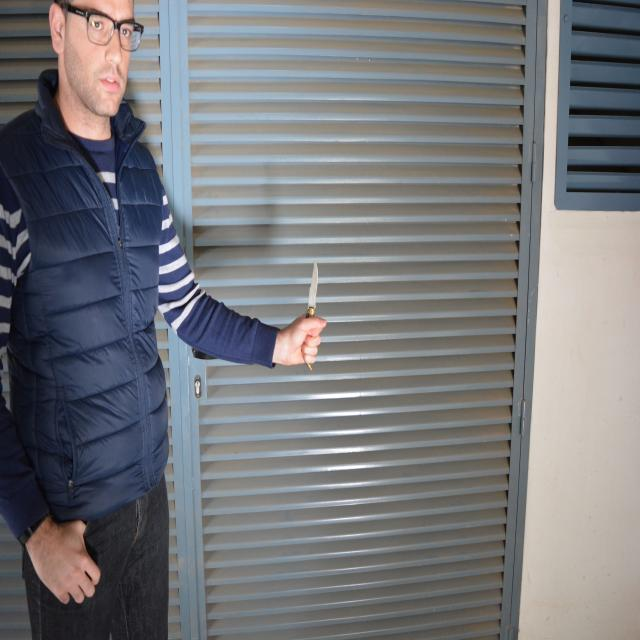knife: (304, 260, 320, 378)
